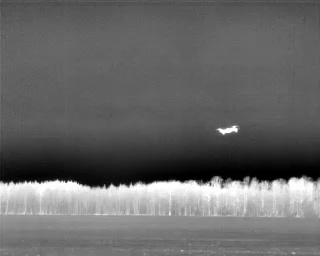DRONE: (212, 120, 244, 140)
